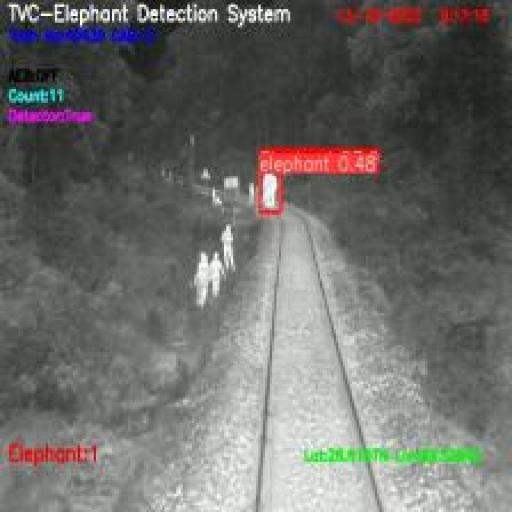Elephant: (261, 172, 281, 212)
